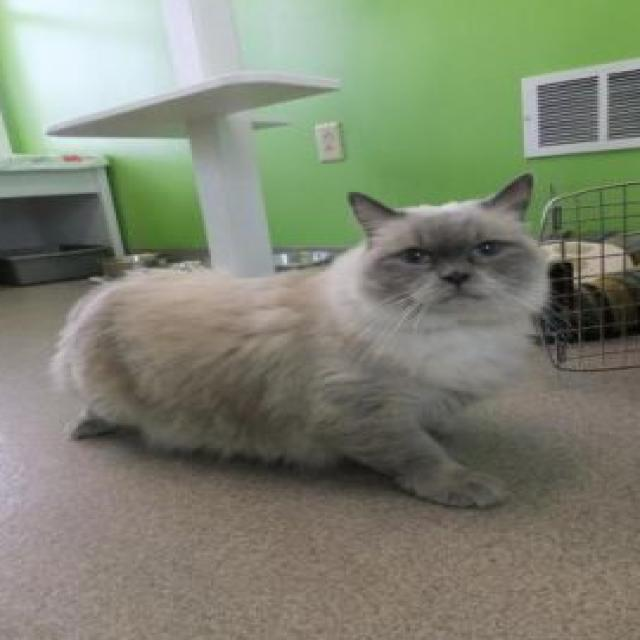Ragdoll: (44, 167, 563, 518)
